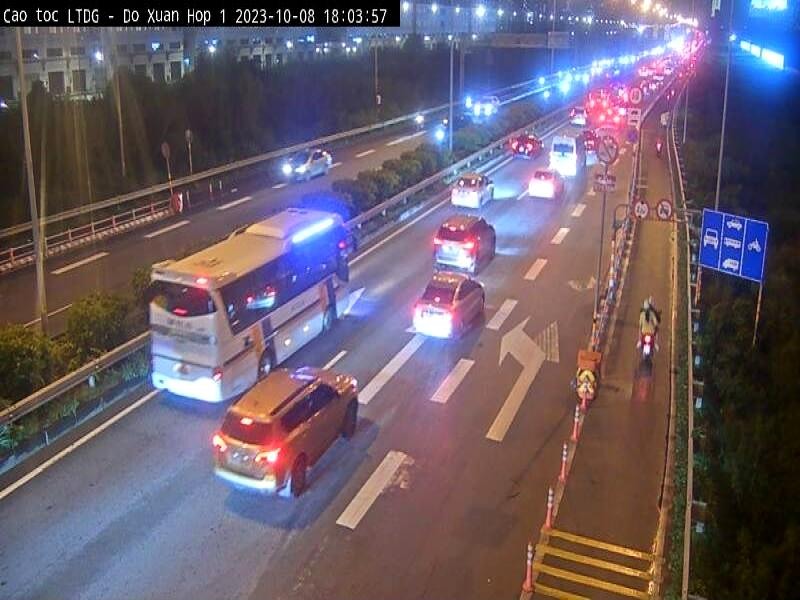bus: (151, 209, 356, 403)
car: (214, 364, 359, 498), (411, 272, 485, 338), (434, 214, 496, 278), (549, 130, 588, 177), (452, 172, 496, 212), (284, 149, 332, 179), (529, 167, 566, 202), (514, 131, 541, 161), (570, 102, 590, 128)
motorcycle: (643, 332, 655, 361)
